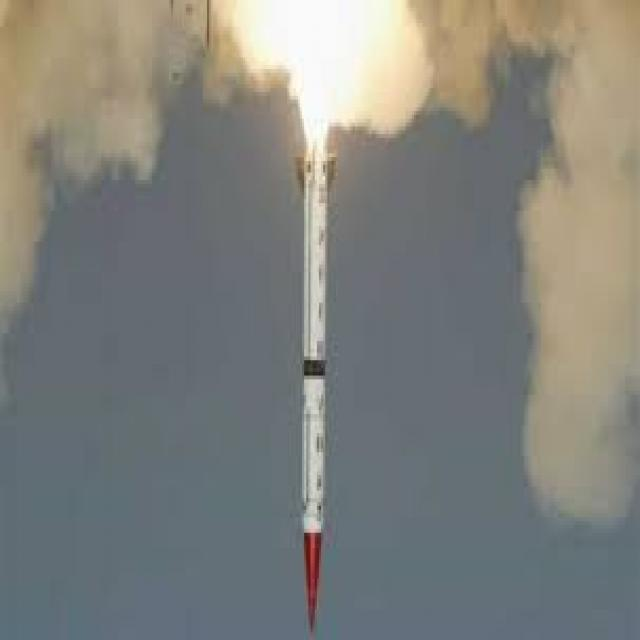missile: (294, 115, 338, 640)
